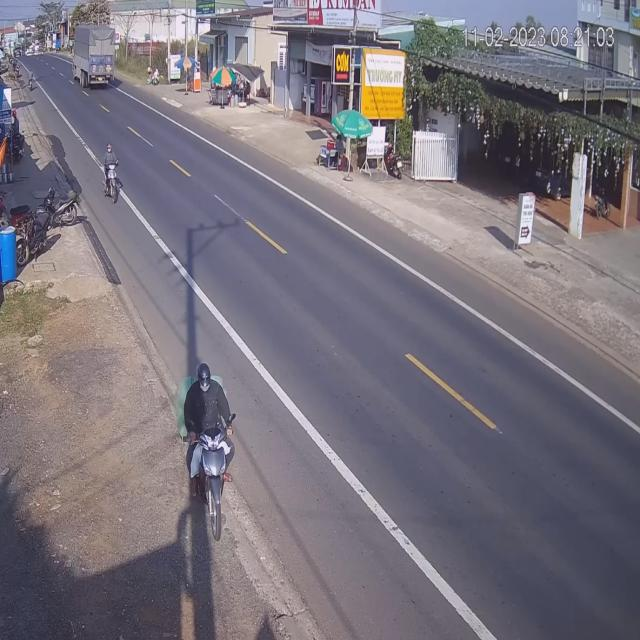motorbike: (181, 368, 231, 545), (99, 143, 119, 201)
truck: (71, 22, 113, 88)
